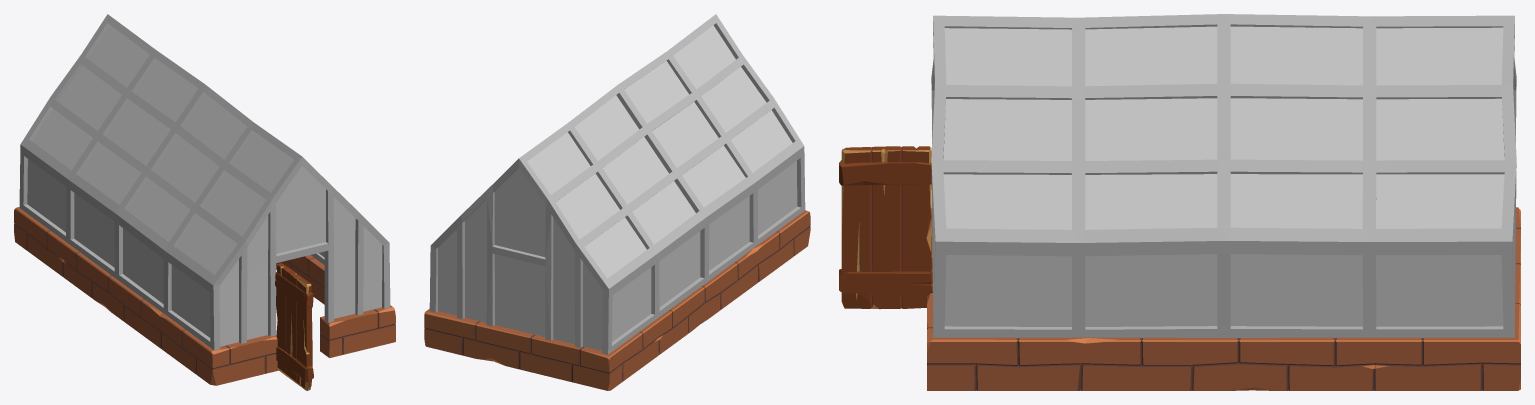
The model's file is GreenHouse.fbx.
3 views of the same model, side by side, from view 1: azimuth 30°, elevation 25°; view 2: azimuth 150°, elevation 25°; view 3: azimuth 270°, elevation 25° (orthographic). The views are drawn at different scales.
Parts seen in each view (by area): view 1: GreenHouse.001; view 2: GreenHouse.001; view 3: GreenHouse.001.
Part boxes in pixels (x1,y1,x2,y2): GreenHouse.001: (14, 14, 395, 390); GreenHouse.001: (424, 14, 810, 390); GreenHouse.001: (839, 14, 1520, 390).
Bounding box in the file's own units: 125 × 136 × 271.
